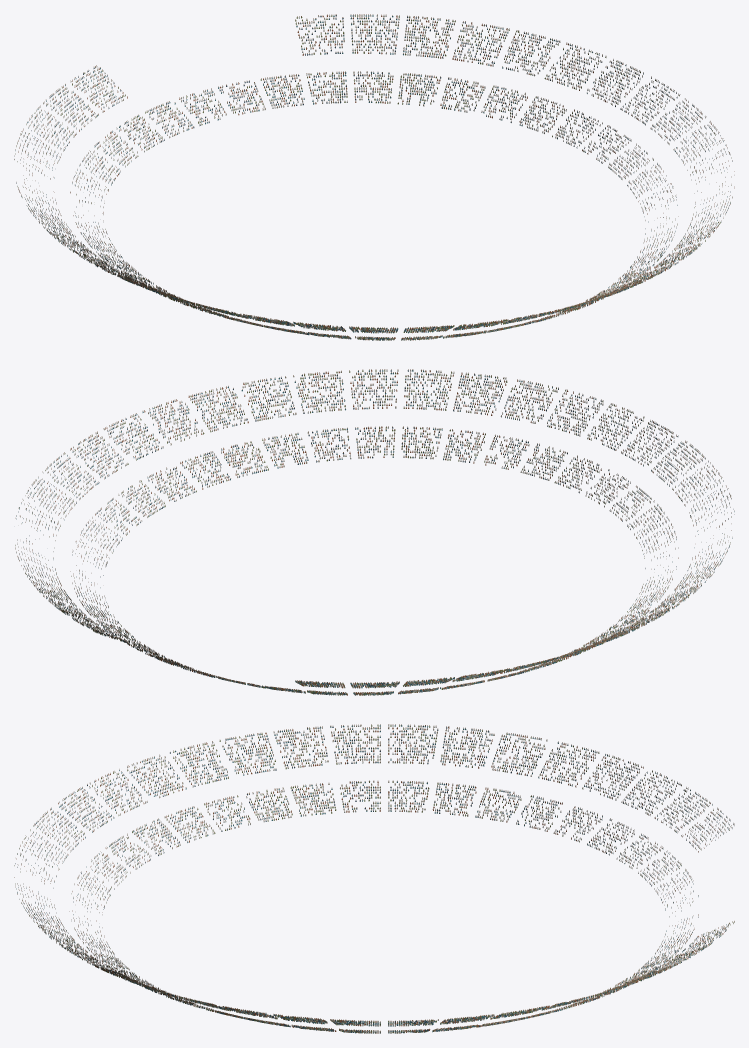
The model's file is ant-crowd-lite.glb.
The picture shows the model from 3 angles, top to bottom: view 1: azimuth 30°, elevation 25°; view 2: azimuth 150°, elevation 25°; view 3: azimuth 270°, elevation 25°; orthographic projection.
Visible parts, largest first — view 1: Lite | Crowd heads, Lite | Crowd | shirts 1, Lite | Crowd | shirts 4, Lite | Crowd | shirts 3, Lite | Crowd | shirts 0, Lite | Crowd | shirts 5, Lite | Crowd | shirts 2; view 2: Lite | Crowd heads, Lite | Crowd | shirts 4, Lite | Crowd | shirts 1, Lite | Crowd | shirts 5, Lite | Crowd | shirts 2, Lite | Crowd | shirts 3, Lite | Crowd | shirts 0; view 3: Lite | Crowd heads, Lite | Crowd | shirts 4, Lite | Crowd | shirts 1, Lite | Crowd | shirts 3, Lite | Crowd | shirts 2, Lite | Crowd | shirts 0, Lite | Crowd | shirts 5.
Boxes of the visible parts, <box> form: Lite | Crowd heads: <box>14,14,734,338</box>; Lite | Crowd | shirts 1: <box>19,15,730,340</box>; Lite | Crowd | shirts 4: <box>15,15,731,340</box>; Lite | Crowd | shirts 3: <box>15,15,730,340</box>; Lite | Crowd | shirts 0: <box>14,15,732,340</box>; Lite | Crowd | shirts 5: <box>14,15,732,340</box>; Lite | Crowd | shirts 2: <box>18,15,734,340</box>; Lite | Crowd heads: <box>15,369,734,693</box>; Lite | Crowd | shirts 4: <box>15,370,731,695</box>; Lite | Crowd | shirts 1: <box>16,370,731,695</box>; Lite | Crowd | shirts 5: <box>18,370,734,695</box>; Lite | Crowd | shirts 2: <box>17,370,730,695</box>; Lite | Crowd | shirts 3: <box>16,370,734,695</box>; Lite | Crowd | shirts 0: <box>18,370,733,695</box>; Lite | Crowd heads: <box>14,724,734,1031</box>; Lite | Crowd | shirts 4: <box>14,725,734,1033</box>; Lite | Crowd | shirts 1: <box>18,725,734,1033</box>; Lite | Crowd | shirts 3: <box>16,725,732,1033</box>; Lite | Crowd | shirts 2: <box>16,727,731,1033</box>; Lite | Crowd | shirts 0: <box>15,726,733,1033</box>; Lite | Crowd | shirts 5: <box>15,725,733,1033</box>.
Bounding box in the file's own units: 211 × 16.75 × 217.
